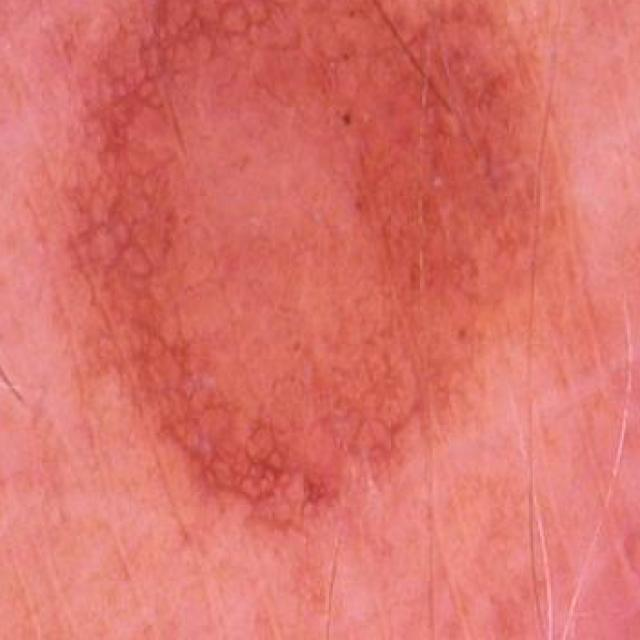NV: (0, 0, 593, 566)
